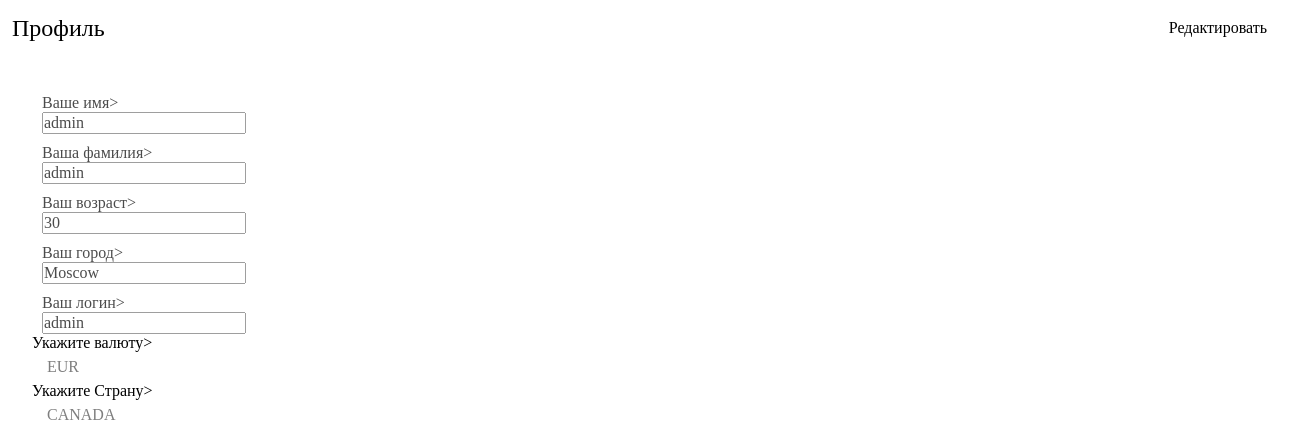
Test: features/EditableProfileCard › Переключение readonly на false
Step 1. Click the button with test id "ProfilePageHeader.editBtn" → (1218, 28), box x1=1154 y1=12 x2=1282 y2=44
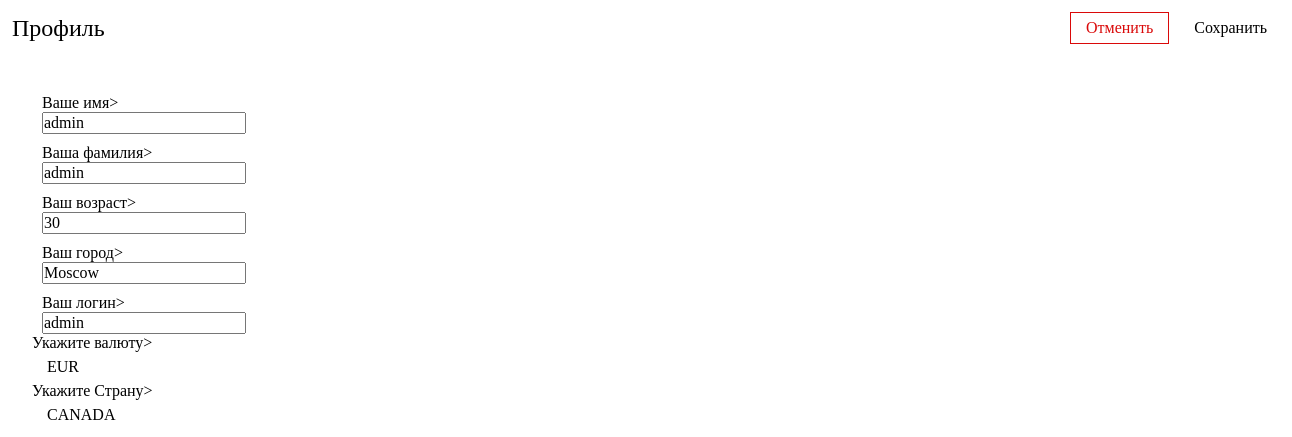
Check: the button with test id "ProfilePageHeader.saveBtn" is shown, box x1=1179 y1=13 x2=1282 y2=43
